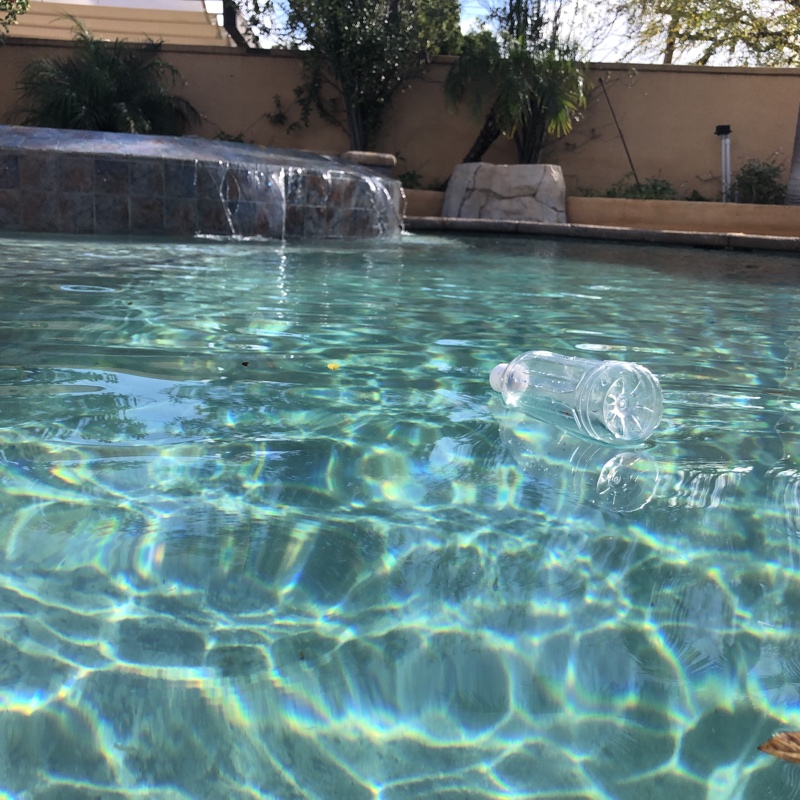Plastic Bottle: (481, 345, 669, 451)
